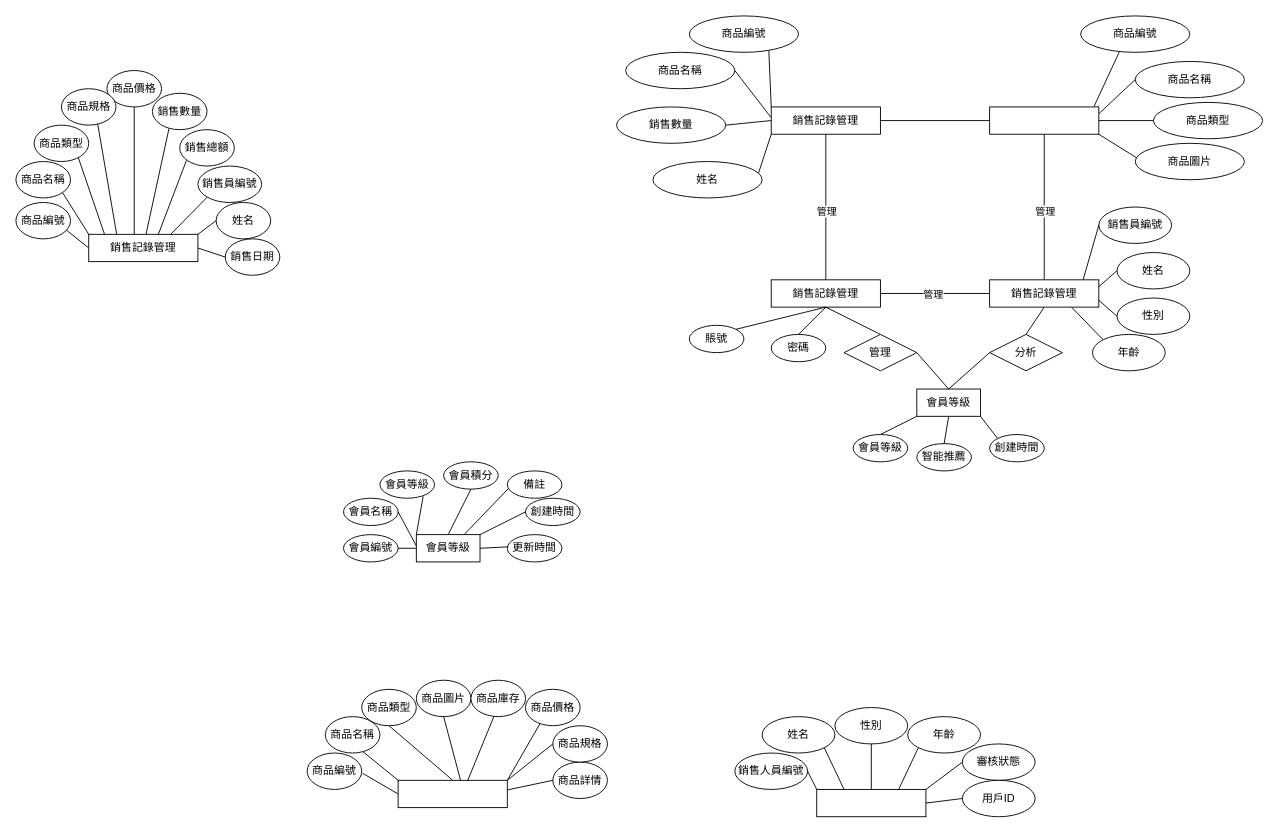
The diagram is 1279 pixels wide and 833 high, and some of its shapes have lost their labels. The box of each missing label's shape, as (x1, y1, x2, y2) in pixels:
商品信息: (989, 106, 1099, 134)
商品信息管理: (397, 779, 507, 808)
銷售人員: (816, 789, 926, 817)
